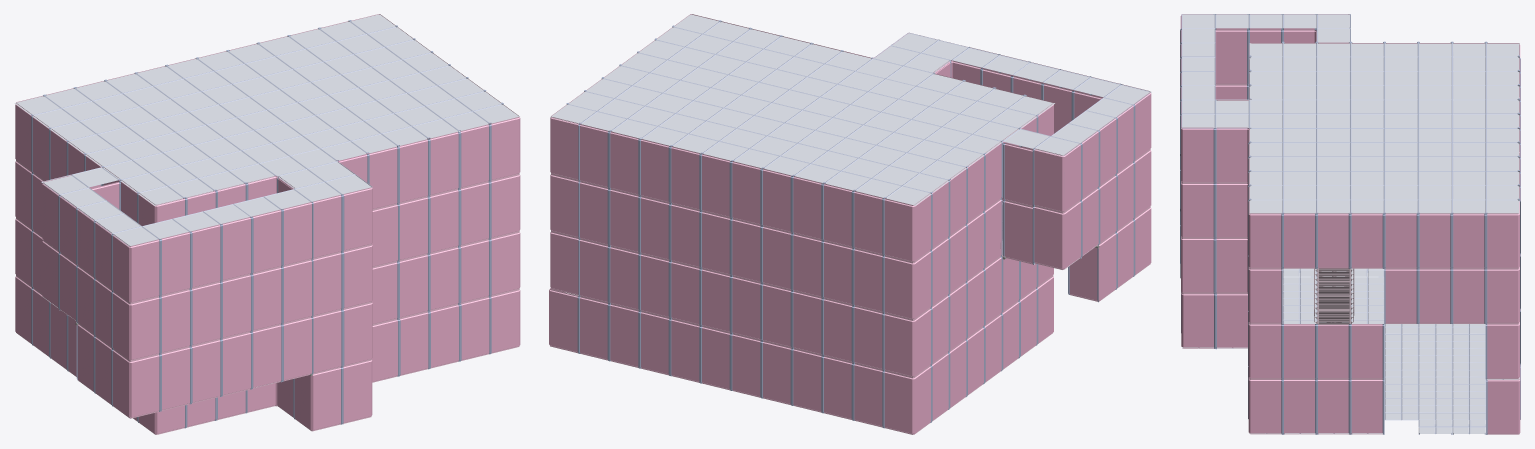
File: Room_2_Model_02.fbx
The picture shows the model from 3 angles, left to right: view 1: azimuth 30°, elevation 25°; view 2: azimuth 150°, elevation 25°; view 3: azimuth 270°, elevation 25°; orthographic projection. The views are drawn at different scales.
Parts seen in each view (by area): view 1: polySurface204; view 2: polySurface204; view 3: polySurface204.
Boxes of the visible parts, box(x1,y1,x2,y2) form: polySurface204: box(14, 14, 520, 434); polySurface204: box(549, 14, 1151, 434); polySurface204: box(1180, 14, 1520, 434).
Size of the model in its own units: 2808 by 1443 by 2015.
